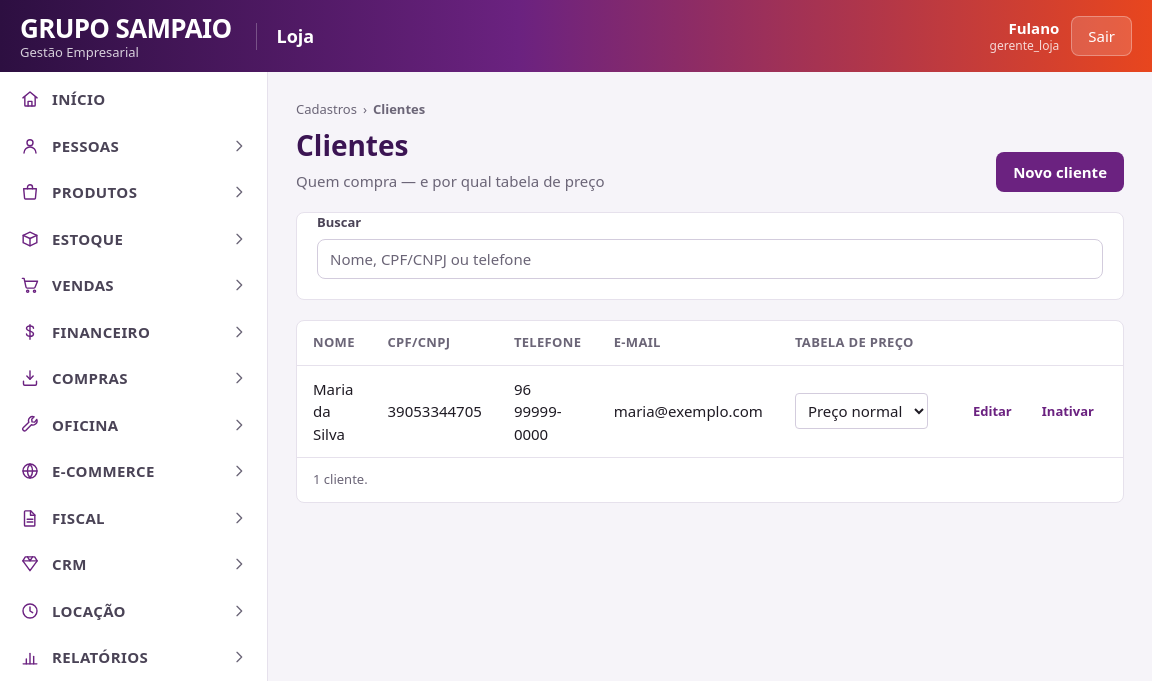
a linha mascarada e a política de retenção › a política de retenção carrega quando a gerência pede
Step 1. Click the button with aria-label "Editar cadastro de Maria da Silva" → (992, 411), box x1=960 y1=394 x2=1025 y2=428
(page scrolled)
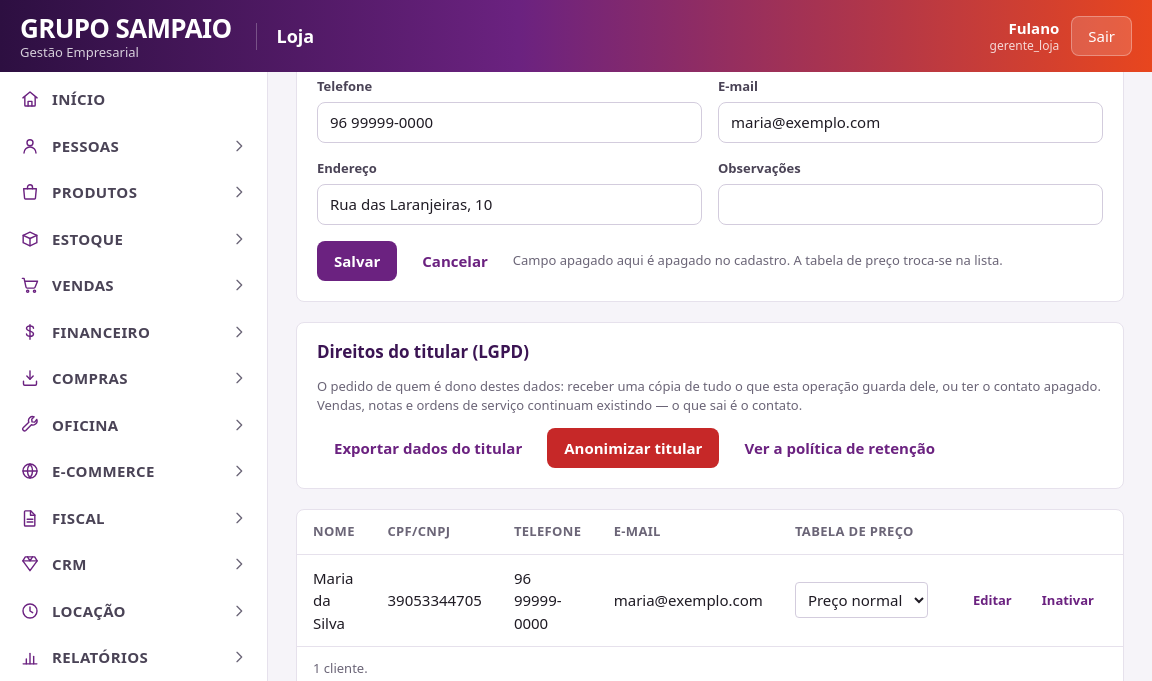
Check: the field labelled "Telefone" holds "96 99999-0000", box x1=317 y1=102 x2=702 y2=142
Step 2. Click the button "Ver a política de retenção" → (840, 448), box x1=727 y1=428 x2=952 y2=468
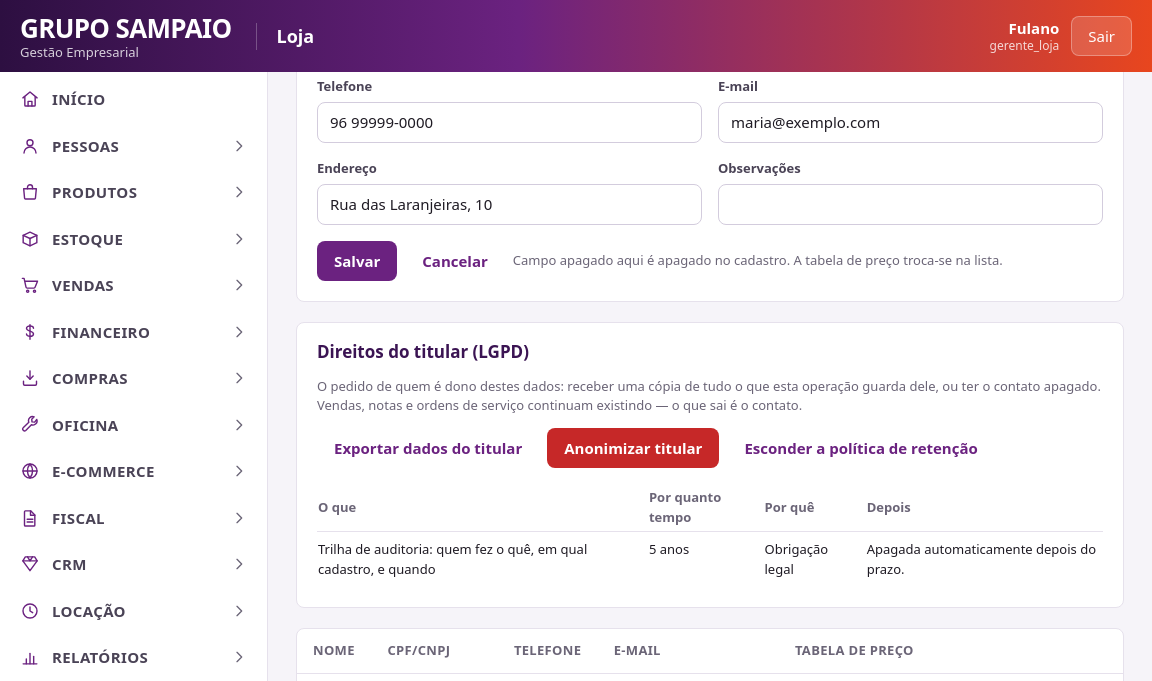
Check: the text "Trilha de auditoria: quem fez o quê, em qual cadastro, e quando" is shown, box x1=317 y1=532 x2=648 y2=587
Check: the text "5 anos" is shown, box x1=648 y1=532 x2=764 y2=587
